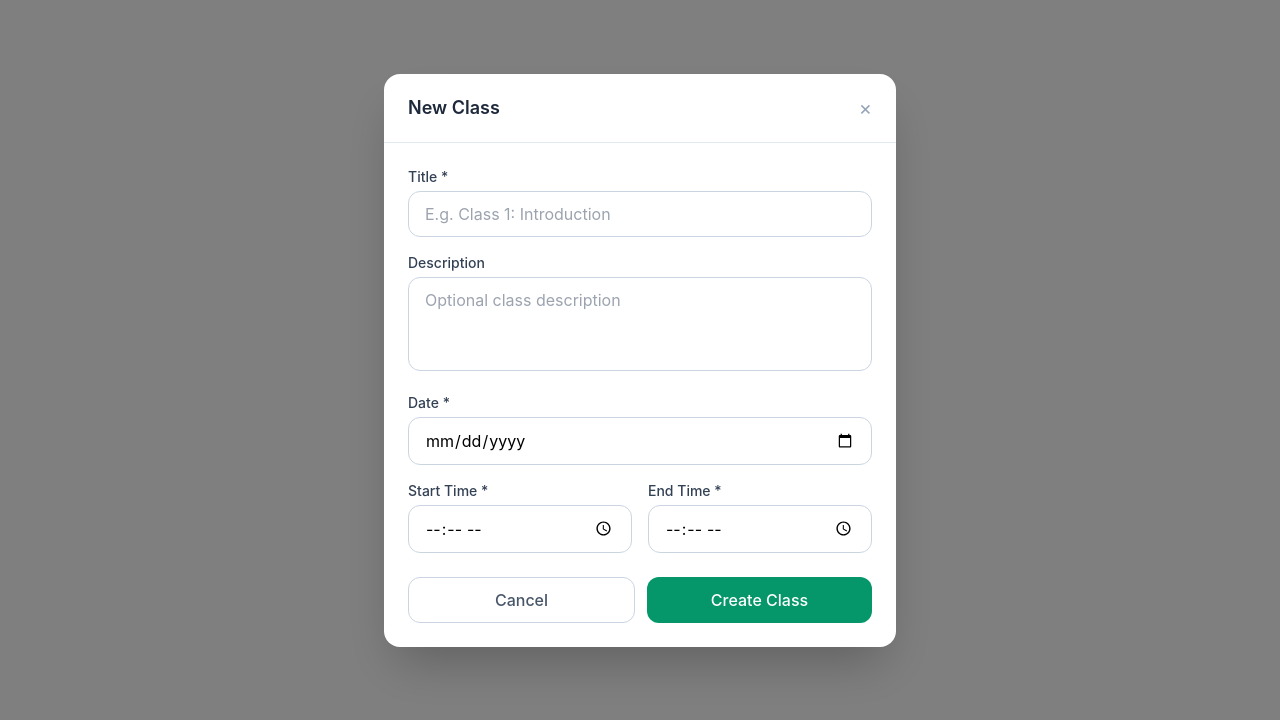
Scenario: ClassFormModal › should show validation error on empty submit
Click the button "Create Class": (760, 600) [647,576,872,622]
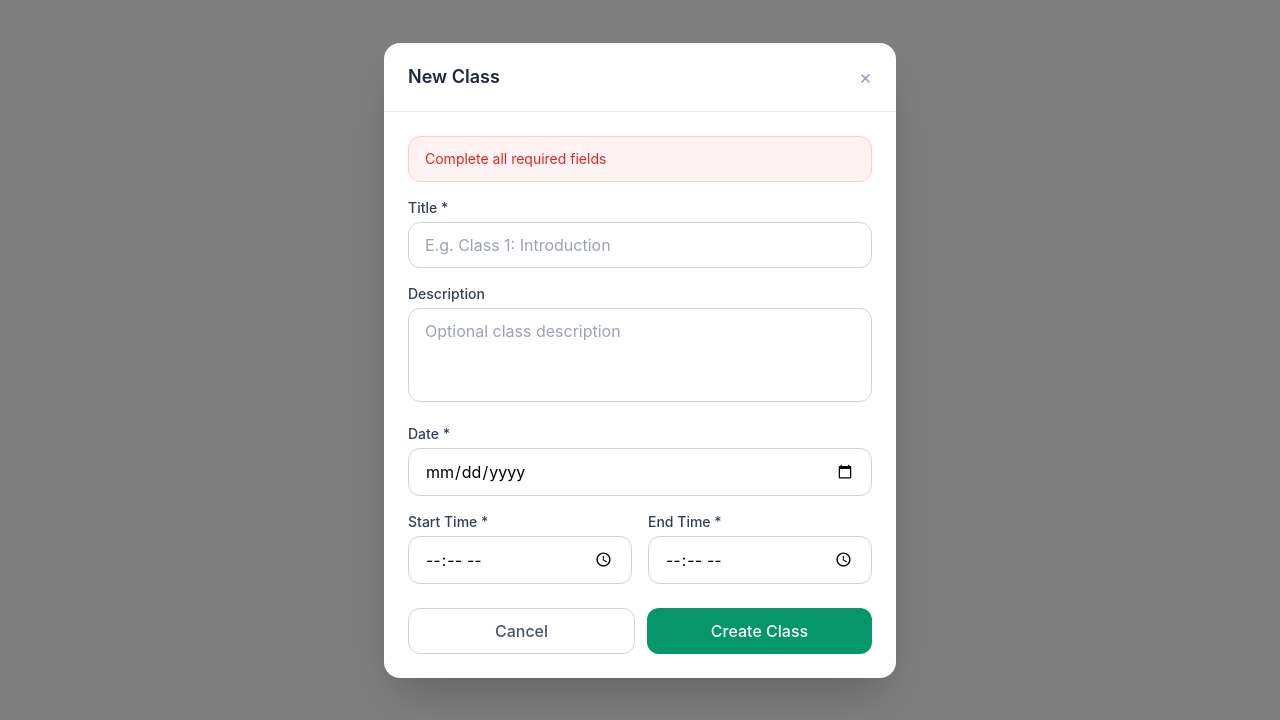
Expected: the text "Complete all required fields" is shown, [408,136,872,182]
